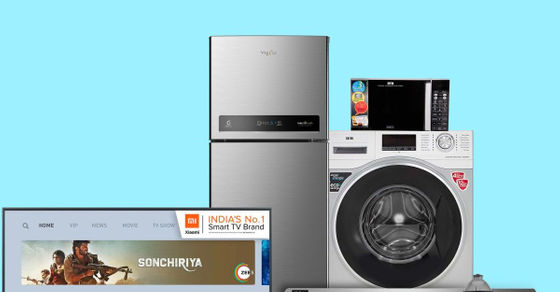Refrigerator: (210, 37, 329, 210)
